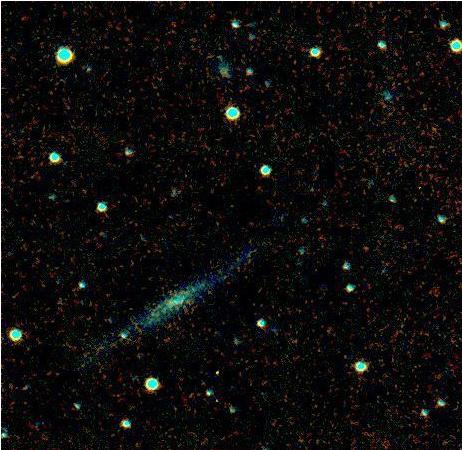star: (350, 233, 380, 263)
